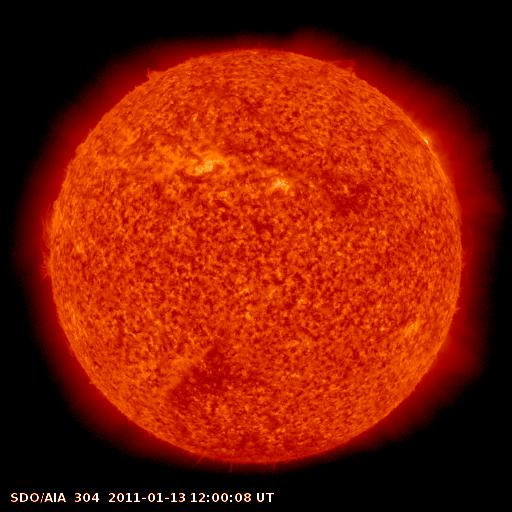prominence: (18, 190, 72, 293), (312, 42, 373, 89), (126, 54, 171, 97)
